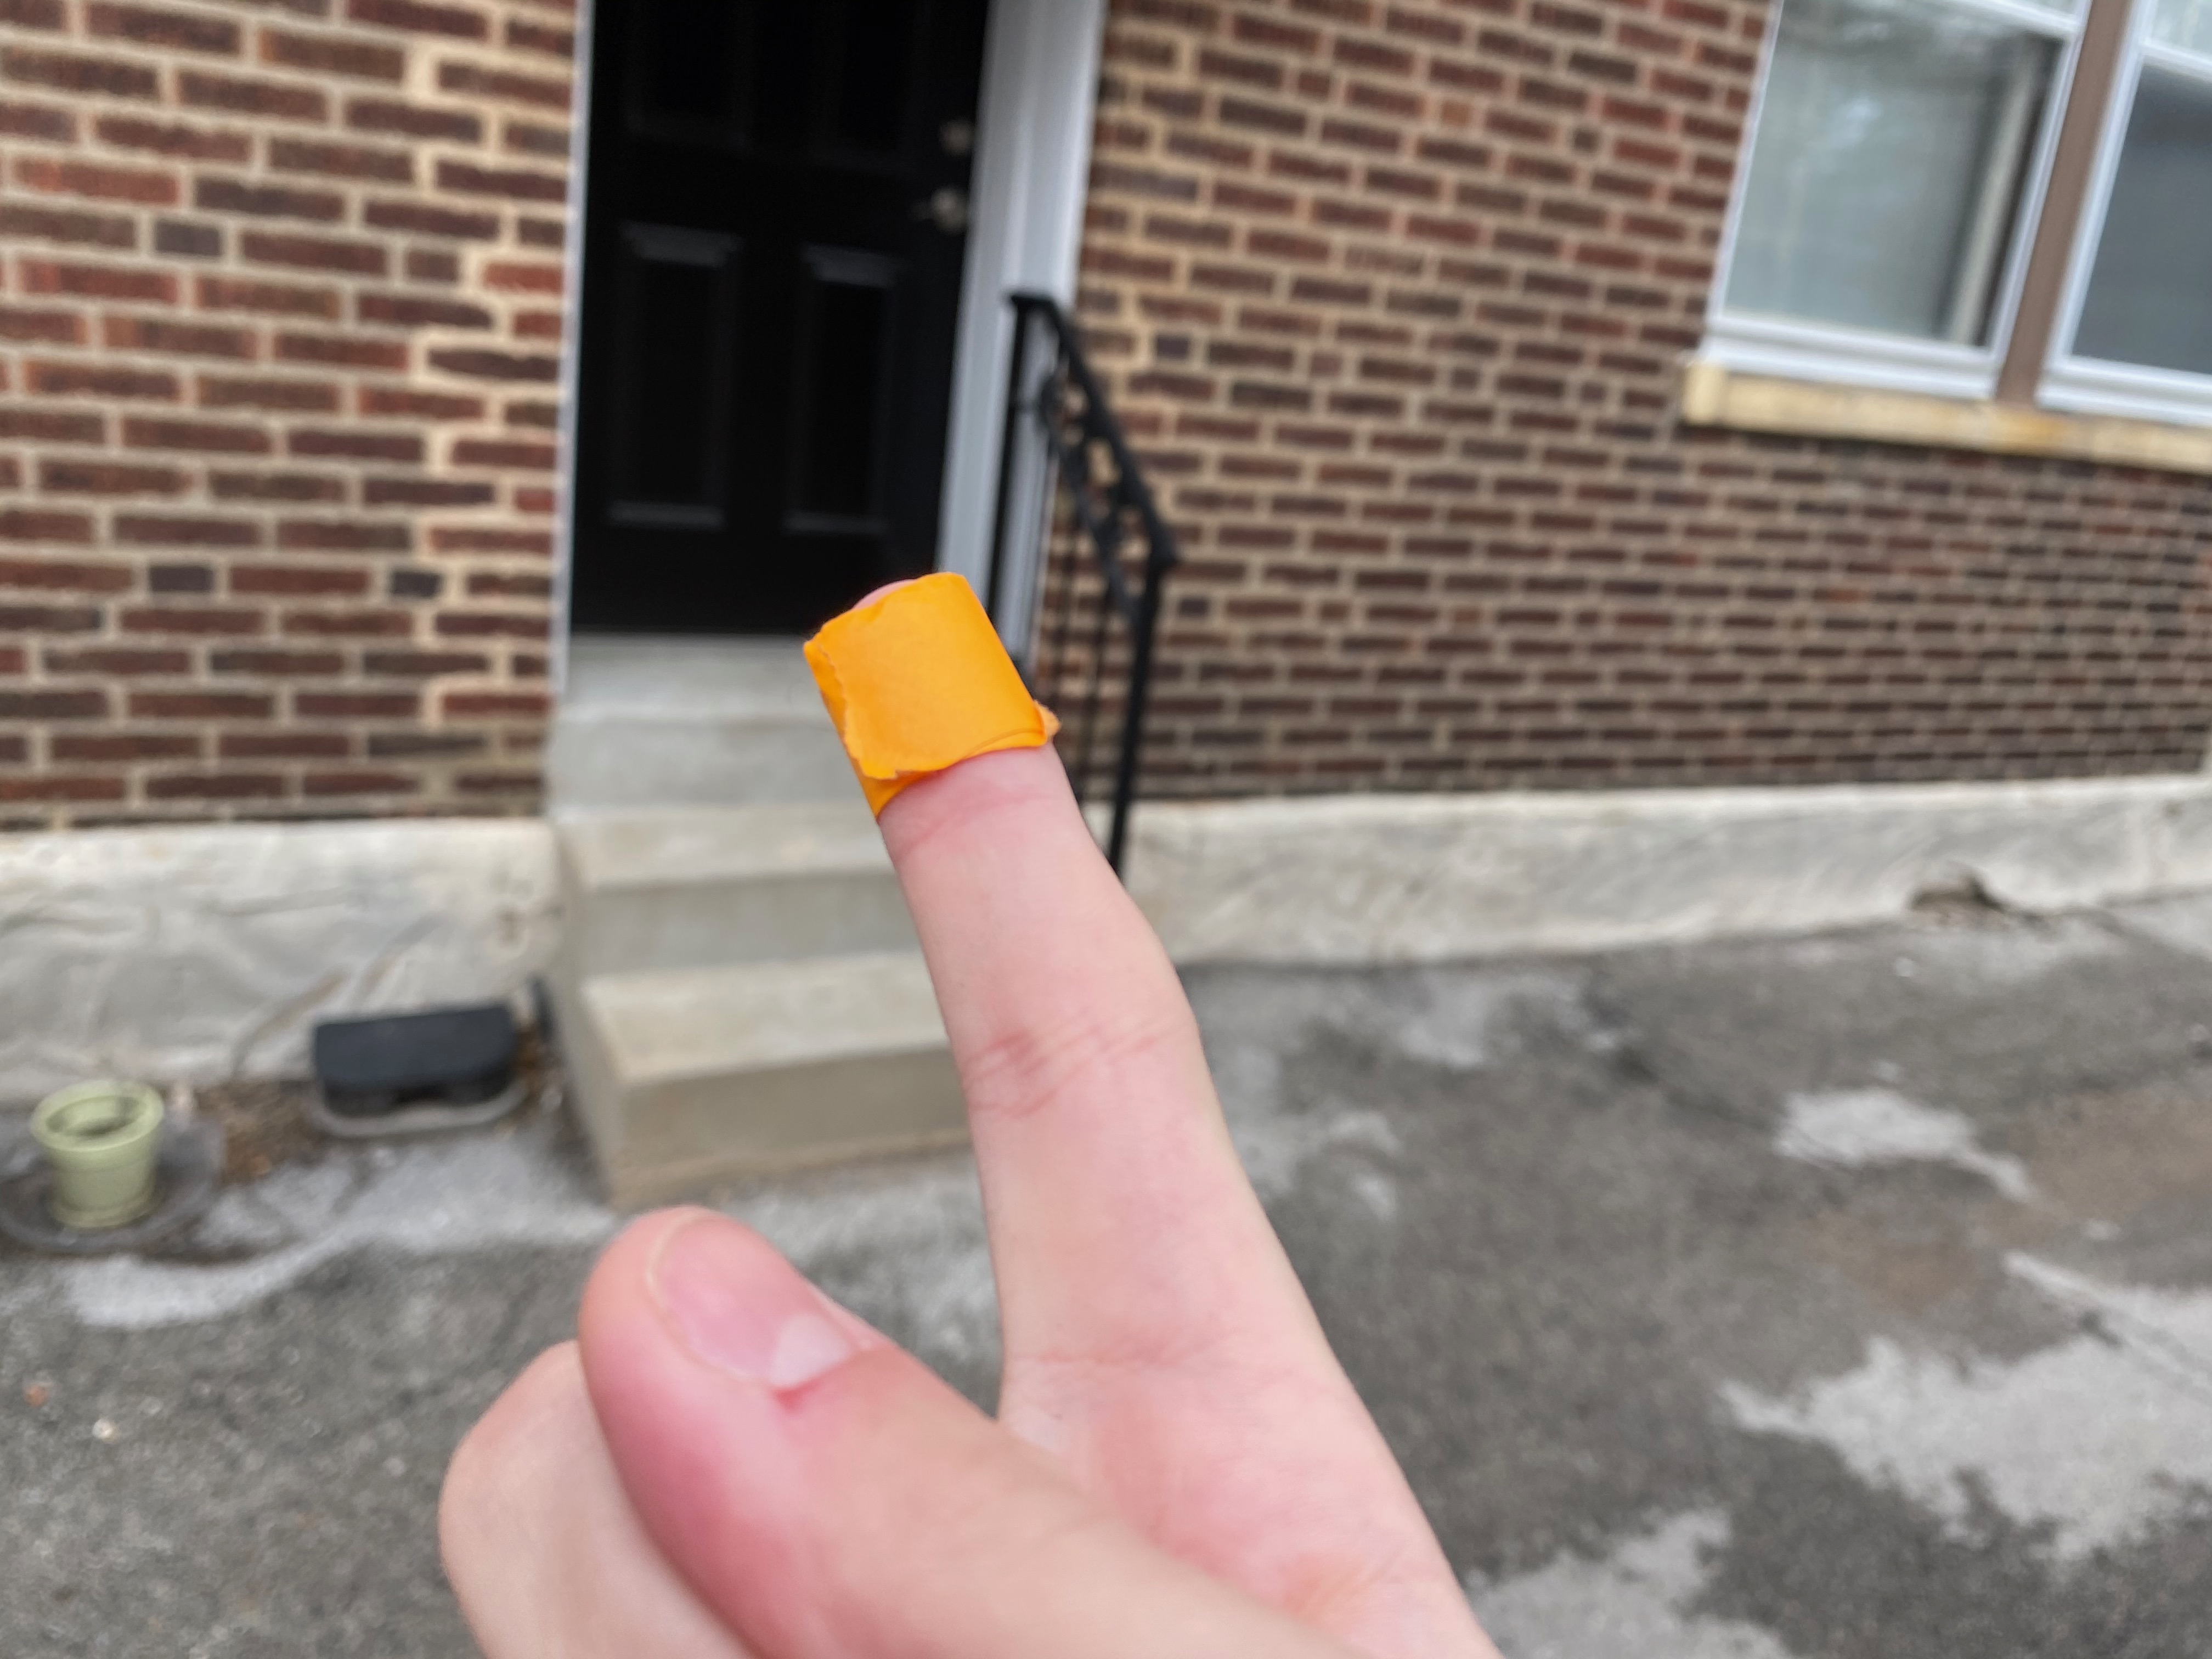fingertip: (820, 549, 1038, 824)
